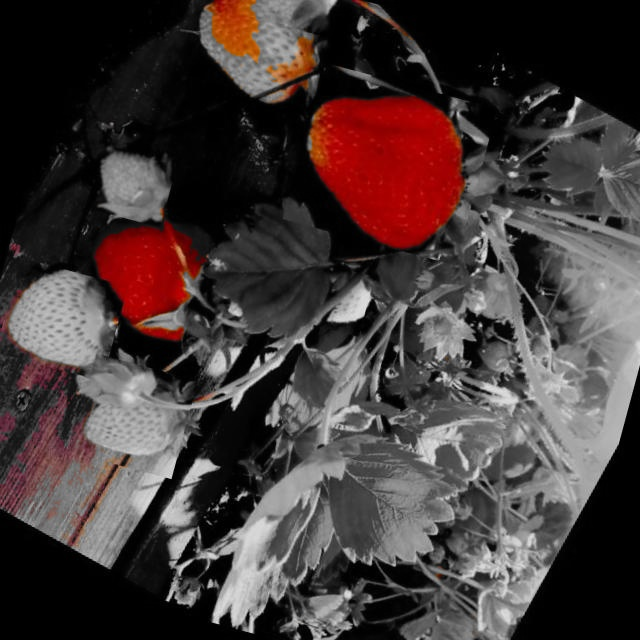ripe: (282, 62, 497, 265), (55, 178, 240, 357), (166, 0, 338, 117)
unripe: (70, 354, 198, 478), (0, 257, 127, 380), (84, 136, 178, 228), (301, 262, 374, 337), (235, 0, 347, 39)
